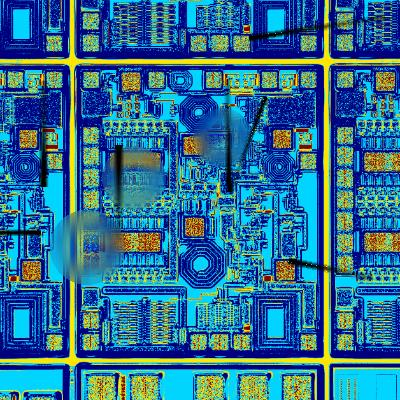Die: (74, 63, 324, 360)
Pad 1: (138, 233, 160, 251), (110, 233, 131, 251), (276, 261, 295, 280), (122, 72, 140, 92), (111, 153, 132, 170), (185, 218, 204, 236), (139, 153, 160, 169), (273, 130, 291, 148), (184, 137, 202, 155)
Pad 2: (83, 232, 99, 253), (83, 254, 99, 275), (83, 189, 99, 208), (83, 211, 99, 230), (83, 147, 99, 165), (83, 169, 99, 187), (83, 127, 99, 144), (83, 72, 99, 88), (206, 72, 222, 88), (83, 334, 99, 350), (211, 335, 228, 350), (301, 153, 316, 169), (262, 72, 277, 88), (149, 72, 164, 88), (301, 335, 317, 350), (83, 313, 99, 328), (234, 335, 250, 350), (301, 72, 316, 87), (191, 335, 206, 350)
